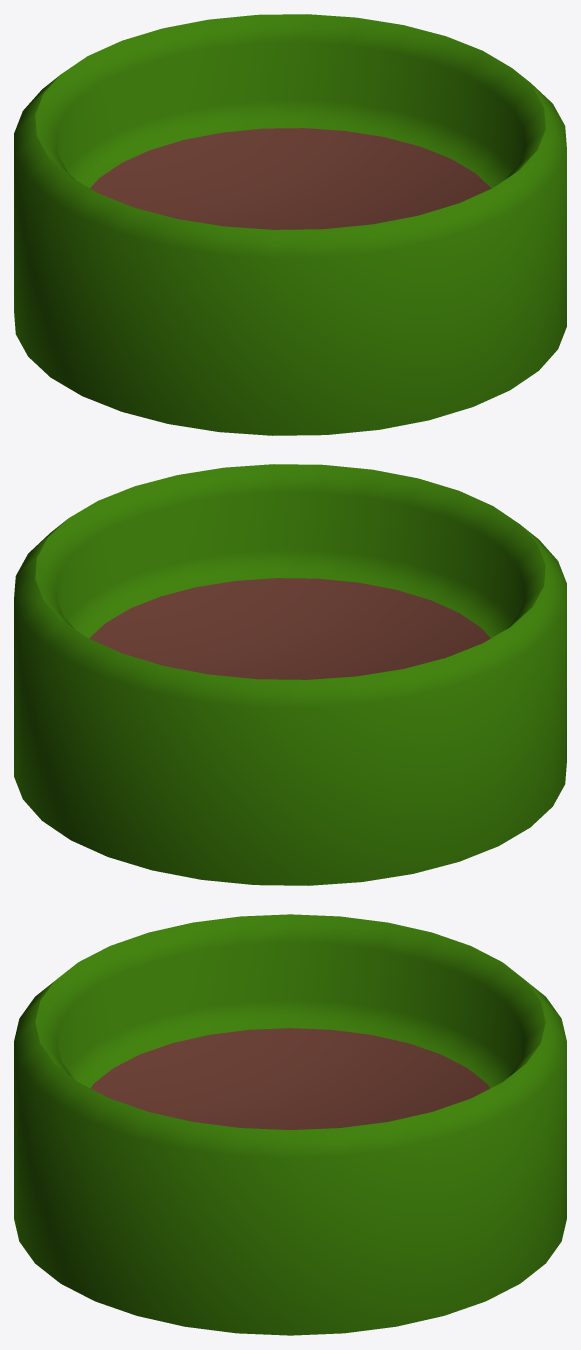
The model's file is FoodCat.fbx.
3 views of the same model, one above another, from view 1: azimuth 30°, elevation 25°; view 2: azimuth 150°, elevation 25°; view 3: azimuth 270°, elevation 25° (orthographic).
Visible parts, largest first — view 1: FoodCat; view 2: FoodCat; view 3: FoodCat.
Part boxes in pixels (box(x1,y1,x2,y2)): FoodCat: box(14, 14, 566, 435); FoodCat: box(14, 464, 566, 885); FoodCat: box(14, 914, 566, 1335).
Bounding box in the file's own units: 49.31 × 19.33 × 49.31.
